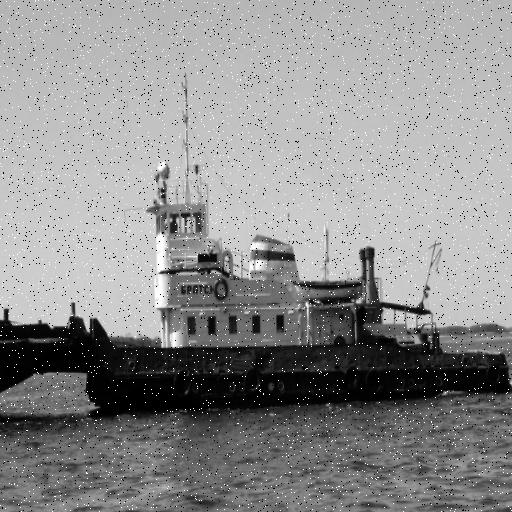tugboat: (81, 157, 512, 426)
